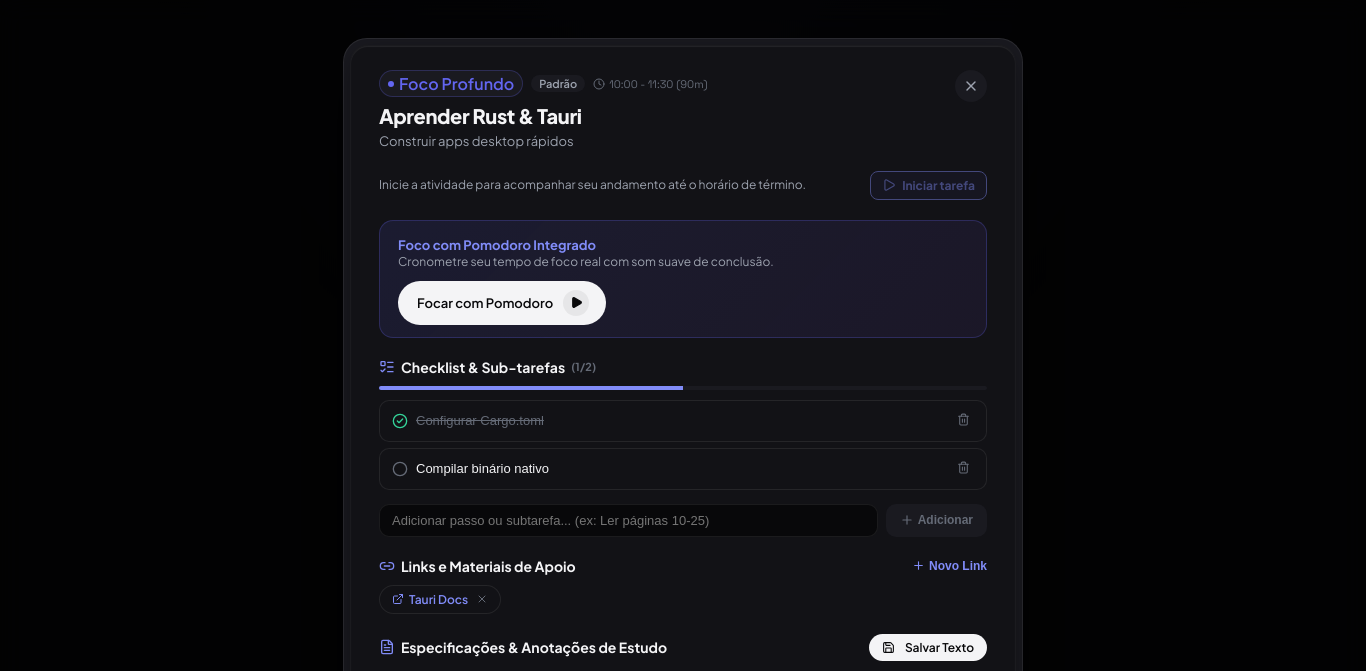
Scenario: TaskDetailModal Component › deve permitir adicionar uma nova subtarefa
Type "Escrever testes unitários" into the field with placeholder "Adicionar passo ou subtarefa... (ex: Ler páginas 10-25)" at (628, 520), box [379, 504, 878, 537]
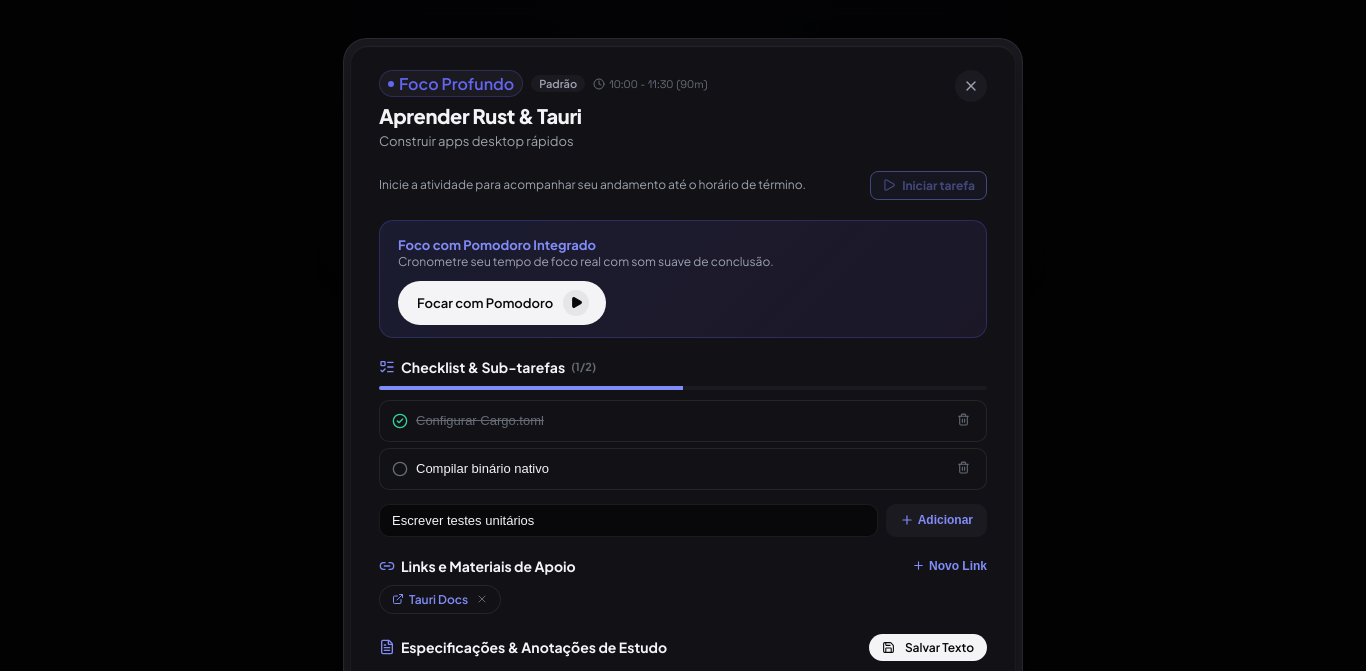
Click the button "Adicionar" at (936, 520), box [886, 504, 987, 537]
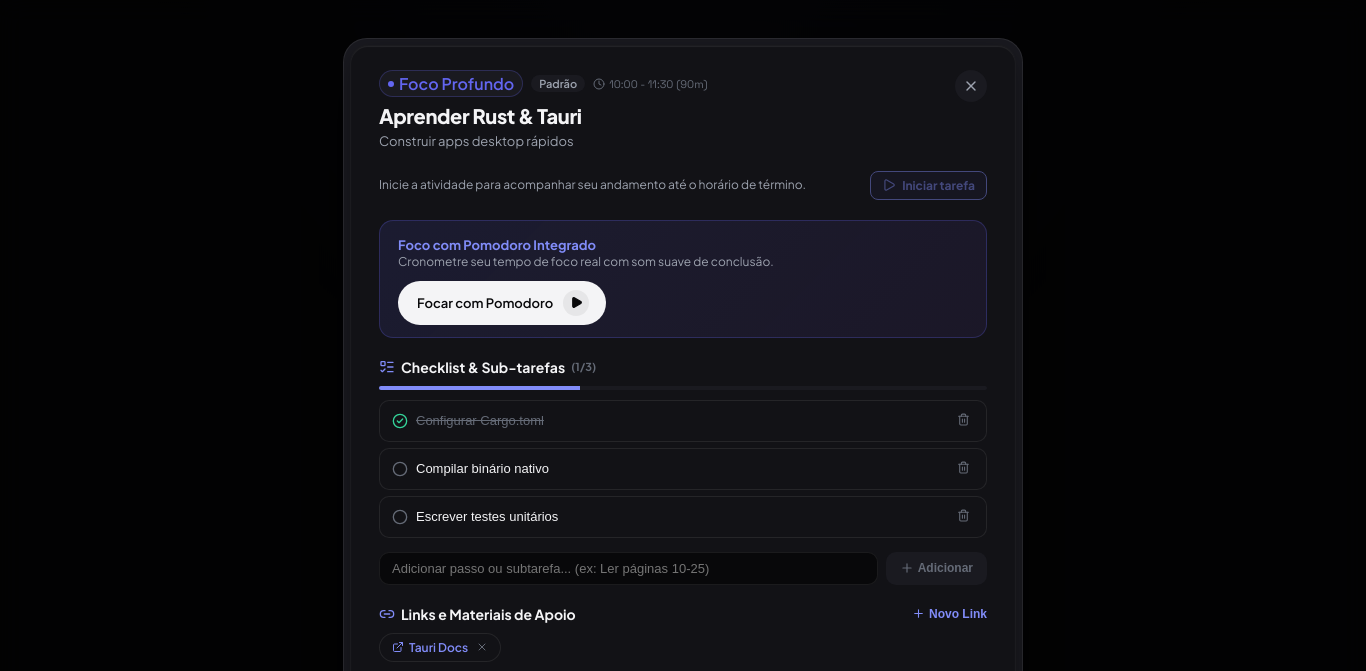
expect the text "Escrever testes unitários" is shown: met, box [416, 509, 558, 524]
